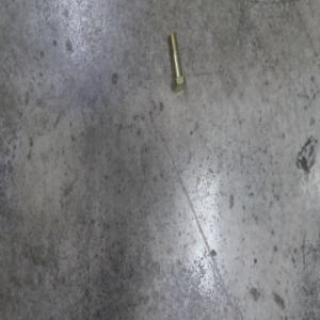Bolttrack_idkeyframe: (167, 30, 185, 91)
